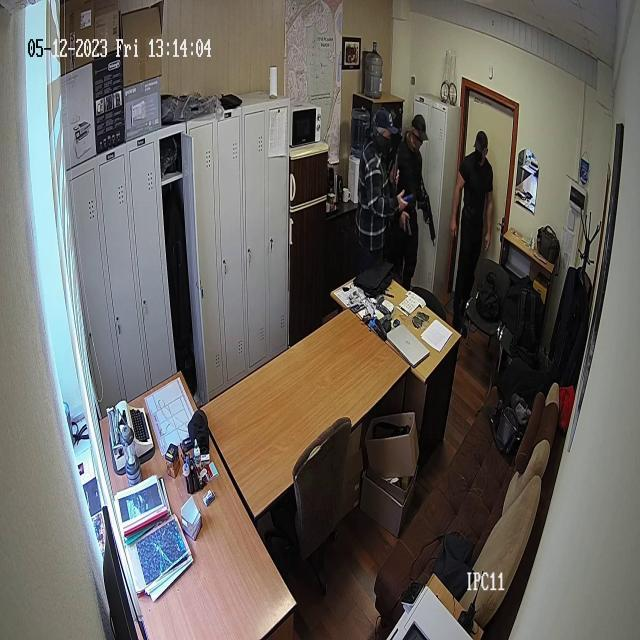pistol: (418, 186, 436, 246), (404, 214, 414, 240)
